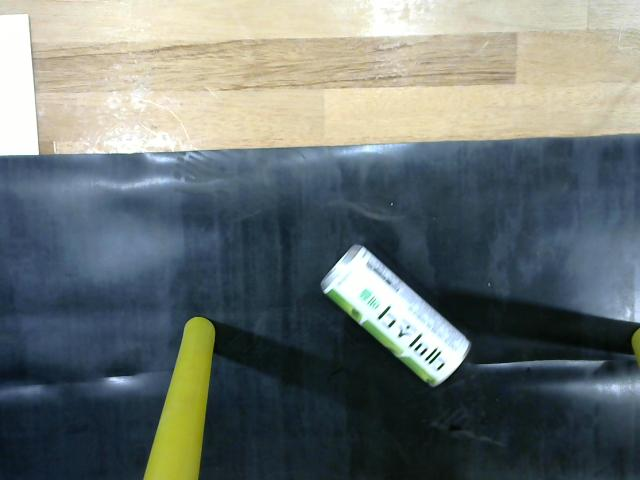can: (312, 225, 485, 400)
